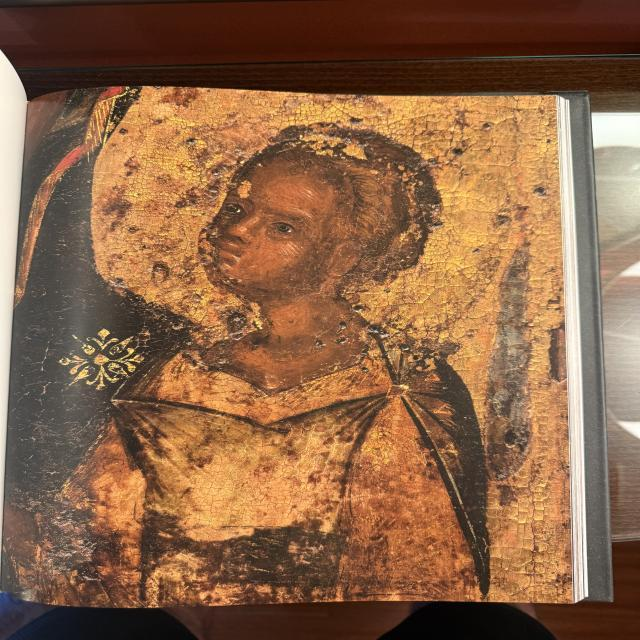christ_child: (42, 125, 514, 603)
